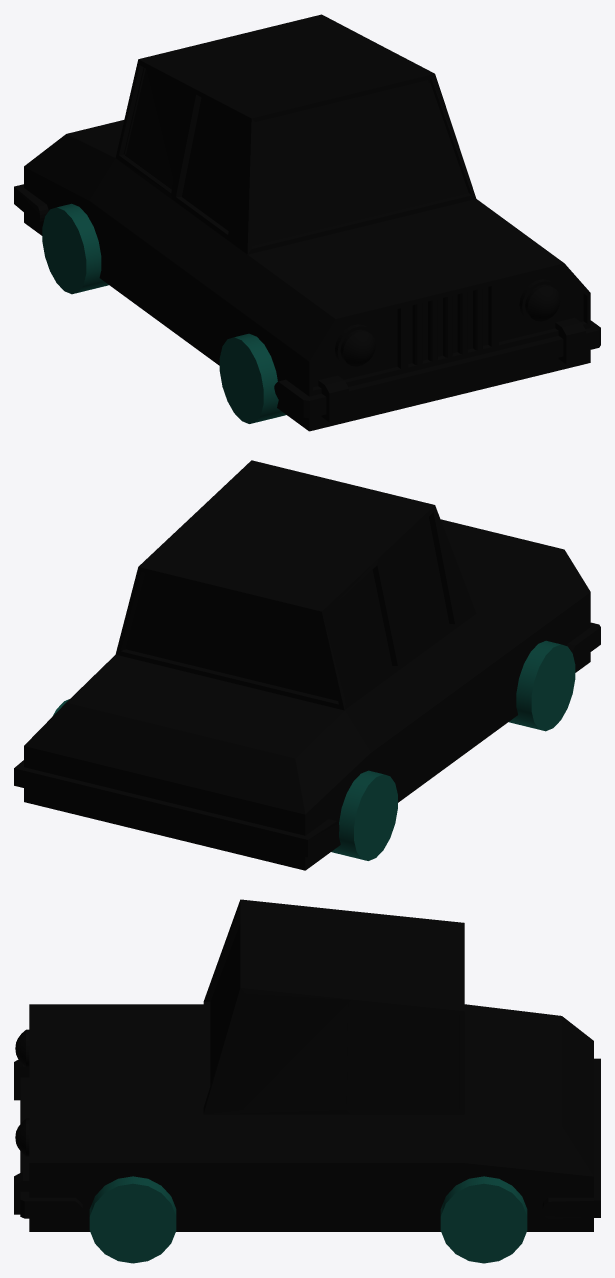
Rendered from Badcar.FBX.
3 views of the same model, one above another, from view 1: azimuth 30°, elevation 25°; view 2: azimuth 150°, elevation 25°; view 3: azimuth 270°, elevation 25° (orthographic).
Visible parts, largest first — view 1: Car; view 2: Car; view 3: Car.
Boxes of the visible parts, x1,y1,x2,y2 form: Car: (14,14,600,431); Car: (14,460,600,870); Car: (14,899,600,1263).
Size of the model in its own units: 26.36 by 19.97 by 43.45.
